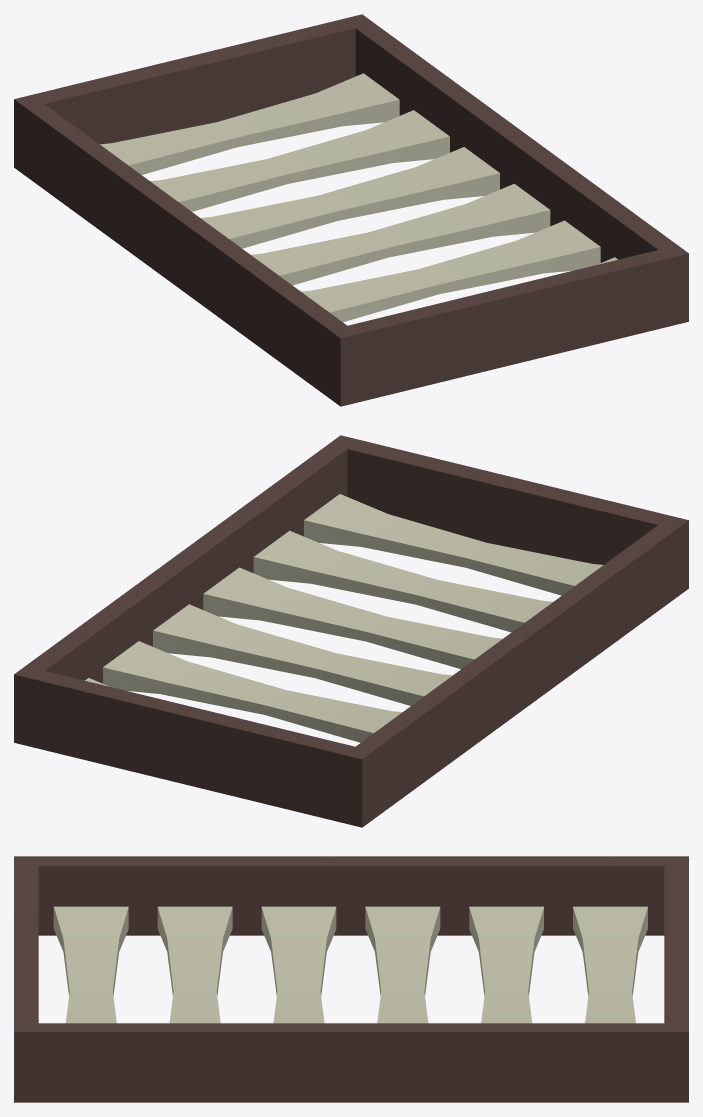
File: bed_frame.fbx
3 views of the same model, one above another, from view 1: azimuth 30°, elevation 25°; view 2: azimuth 150°, elevation 25°; view 3: azimuth 270°, elevation 25° (orthographic). The views are drawn at different scales.
Visible parts, largest first — view 1: bed.frame; view 2: bed.frame; view 3: bed.frame.
Part boxes in pixels (bbox=[...]): bed.frame: bbox=[14, 14, 688, 406]; bed.frame: bbox=[14, 435, 688, 827]; bed.frame: bbox=[14, 856, 688, 1102].
Bounding box in the file's own units: 160 × 30 × 260.
